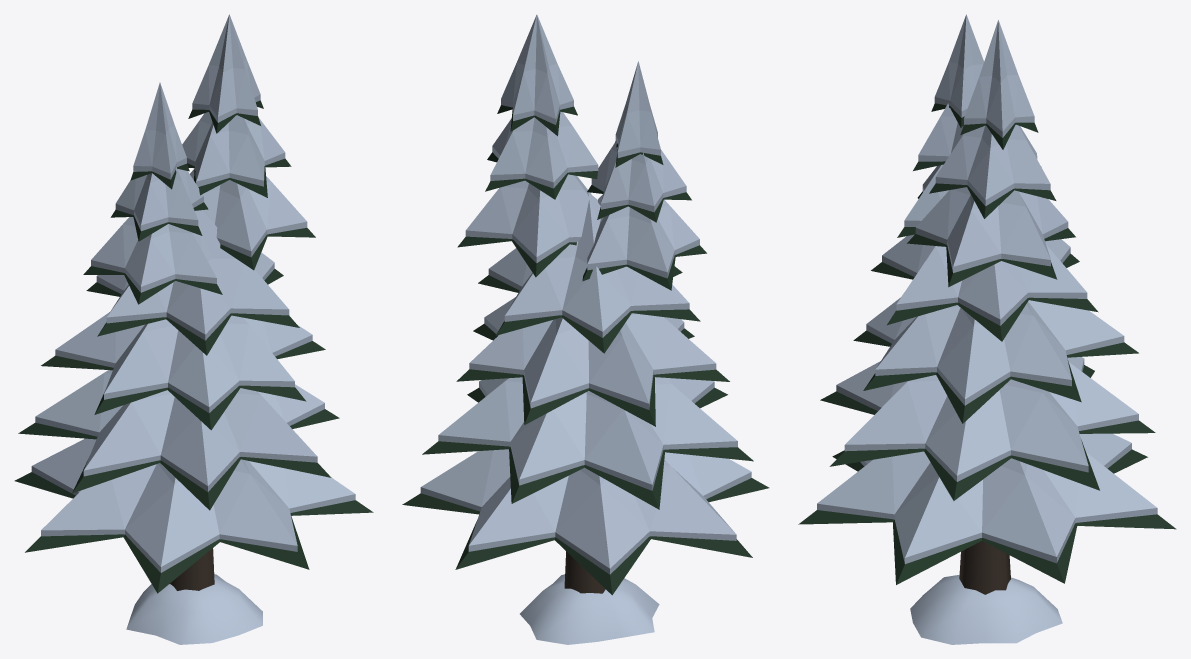
File: pine_e.glb
3 renders of one model, left to right at view 1: azimuth 30°, elevation 25°; view 2: azimuth 150°, elevation 25°; view 3: azimuth 270°, elevation 25°, orthographic. The views are drawn at different scales.
Visible parts, largest first — view 1: Tree; view 2: Tree; view 3: Tree.
Boxes of the visible parts, x1,y1,x2,y2 form: Tree: (14, 14, 373, 644); Tree: (402, 14, 769, 644); Tree: (798, 14, 1176, 644).
Size of the model in its own units: 4.03 by 7.27 by 4.02.
